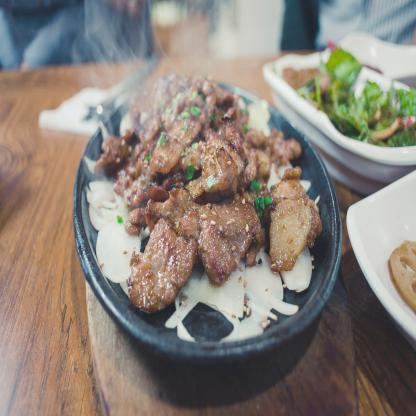Carne: (121, 222, 196, 320), (200, 195, 254, 274), (206, 116, 264, 170), (151, 111, 208, 164), (126, 193, 193, 230), (184, 138, 230, 190), (96, 128, 145, 172), (158, 87, 200, 117), (199, 90, 220, 111)
